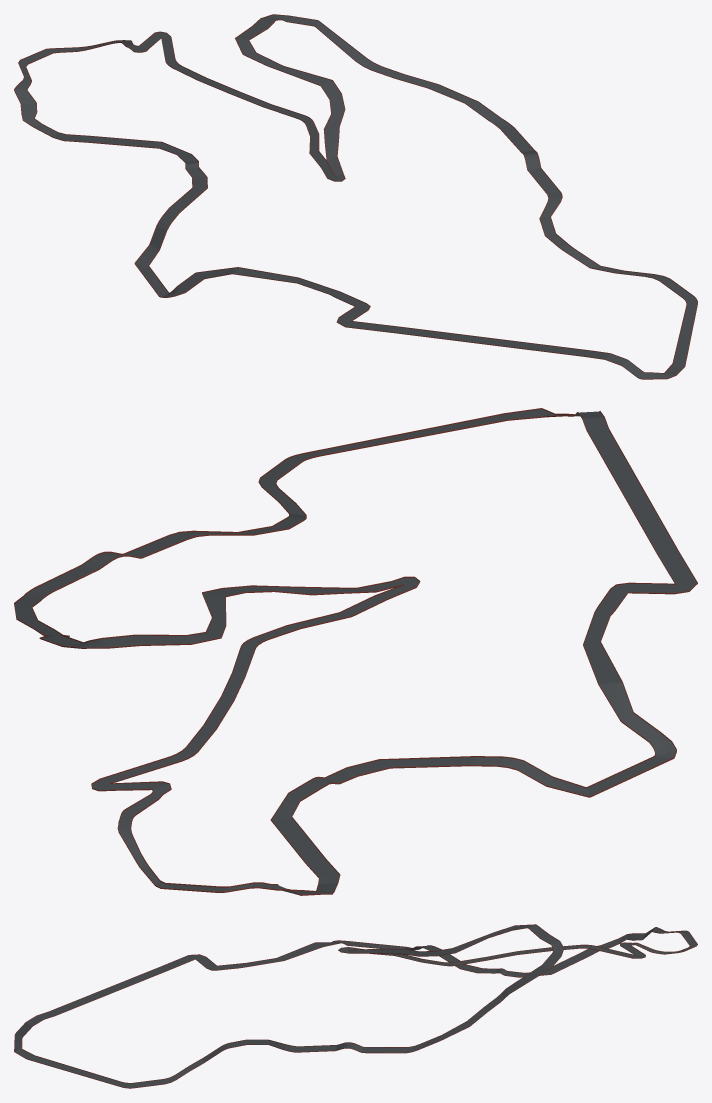
File: Track5Moutnain.glb
3 views of the same model, one above another, from view 1: azimuth 30°, elevation 25°; view 2: azimuth 150°, elevation 25°; view 3: azimuth 270°, elevation 25° (orthographic). The views are drawn at different scales.
Visible parts, largest first — view 1: MountainTrack; view 2: MountainTrack; view 3: MountainTrack.
Boxes of the visible parts, box(x1,y1,x2,y2) form: MountainTrack: box(14, 14, 697, 379); MountainTrack: box(14, 408, 697, 895); MountainTrack: box(14, 924, 697, 1088).
Bounding box in the file's own units: 7.26 × 2.08 × 14.01.
